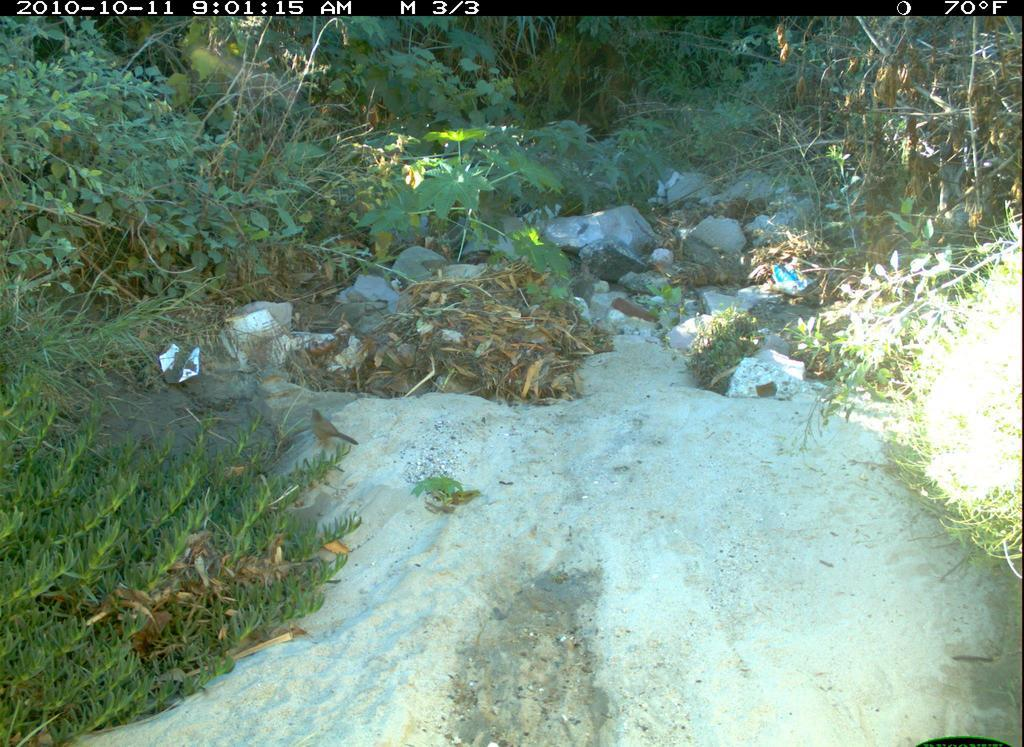bird: (305, 404, 372, 473)
